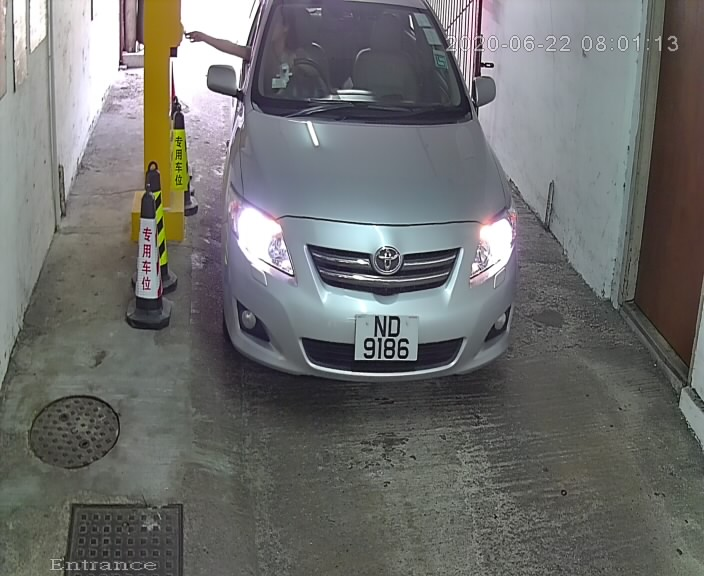privatecar: (180, 1, 569, 416)
